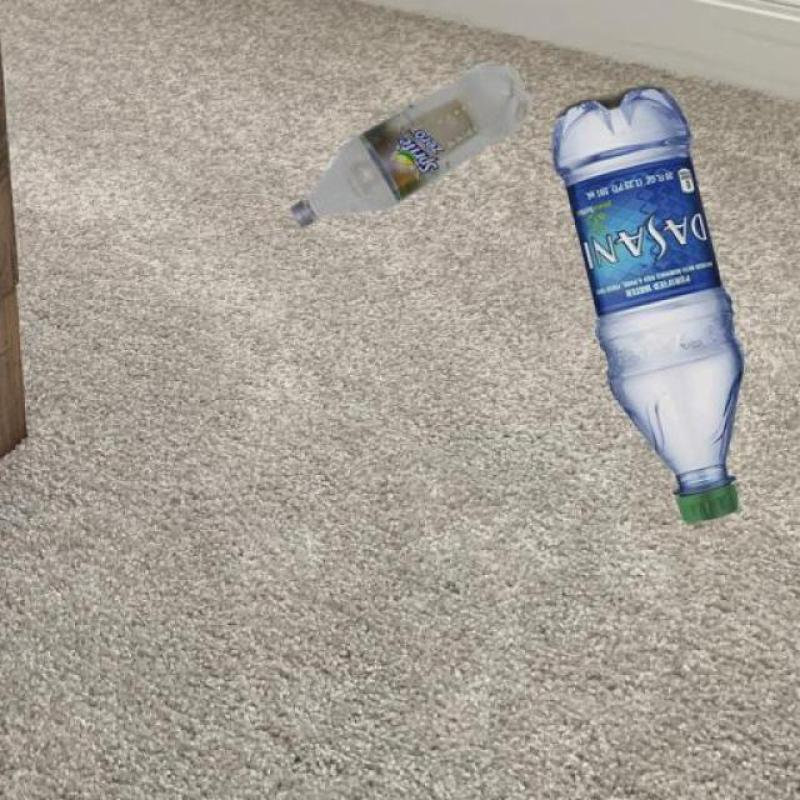botella: (552, 88, 742, 526), (290, 64, 522, 226)
